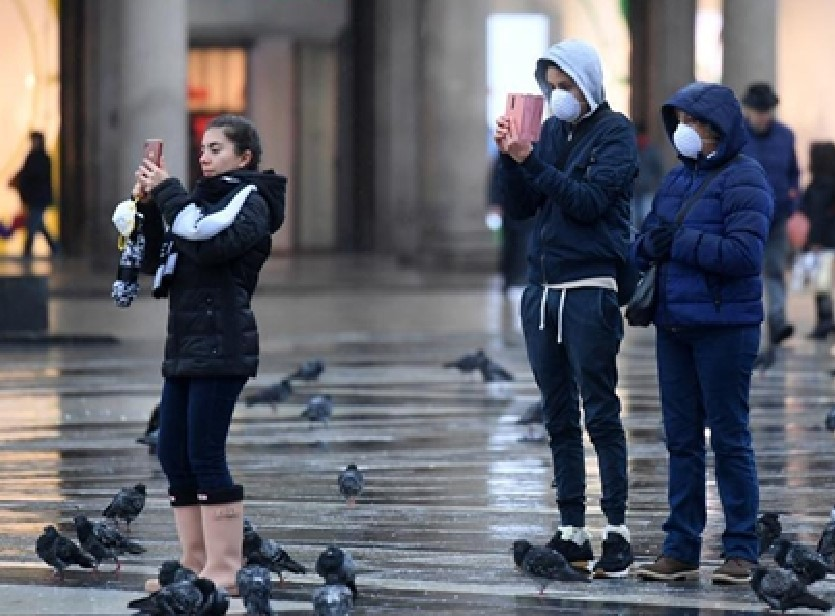face_no_mask: (197, 127, 254, 180)
face_with_mask: (538, 63, 584, 126), (670, 104, 718, 162)
